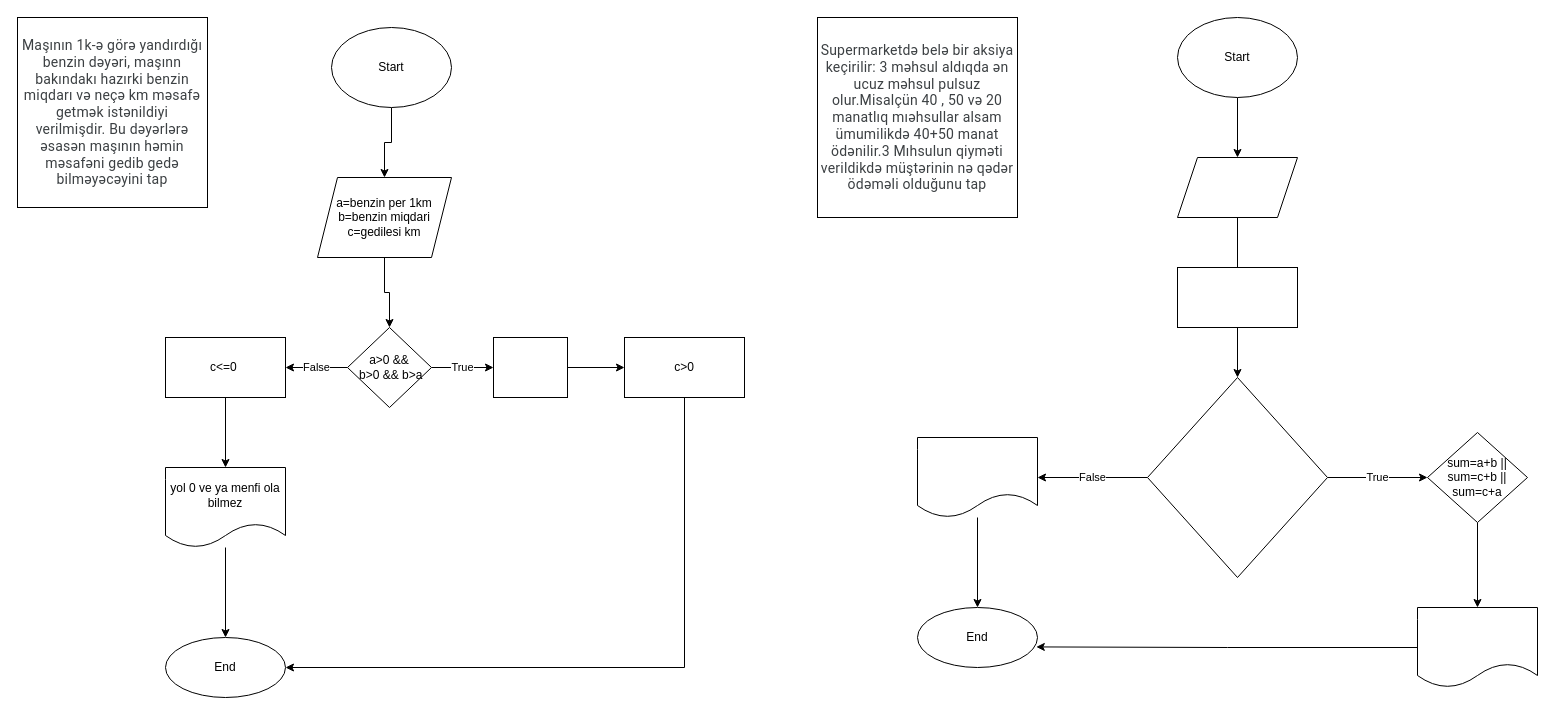
The diagram is 1555 pixels wide and 715 high, and some of its shapes have lost their labels. Here are the shapes that lost their labels. From the top down, the centre of each, then its label:
At (x=1237, y=187): "a b c".
At (x=1237, y=297): "sum=0".
At (x=530, y=367): "c=b/a".
At (x=977, y=477): "error".
At (x=1237, y=477): "(a>b && b>c)|| (b>a && a>c) || (c>b && b>a) || (c>a && a>b)".
At (x=1477, y=647): "sum".
